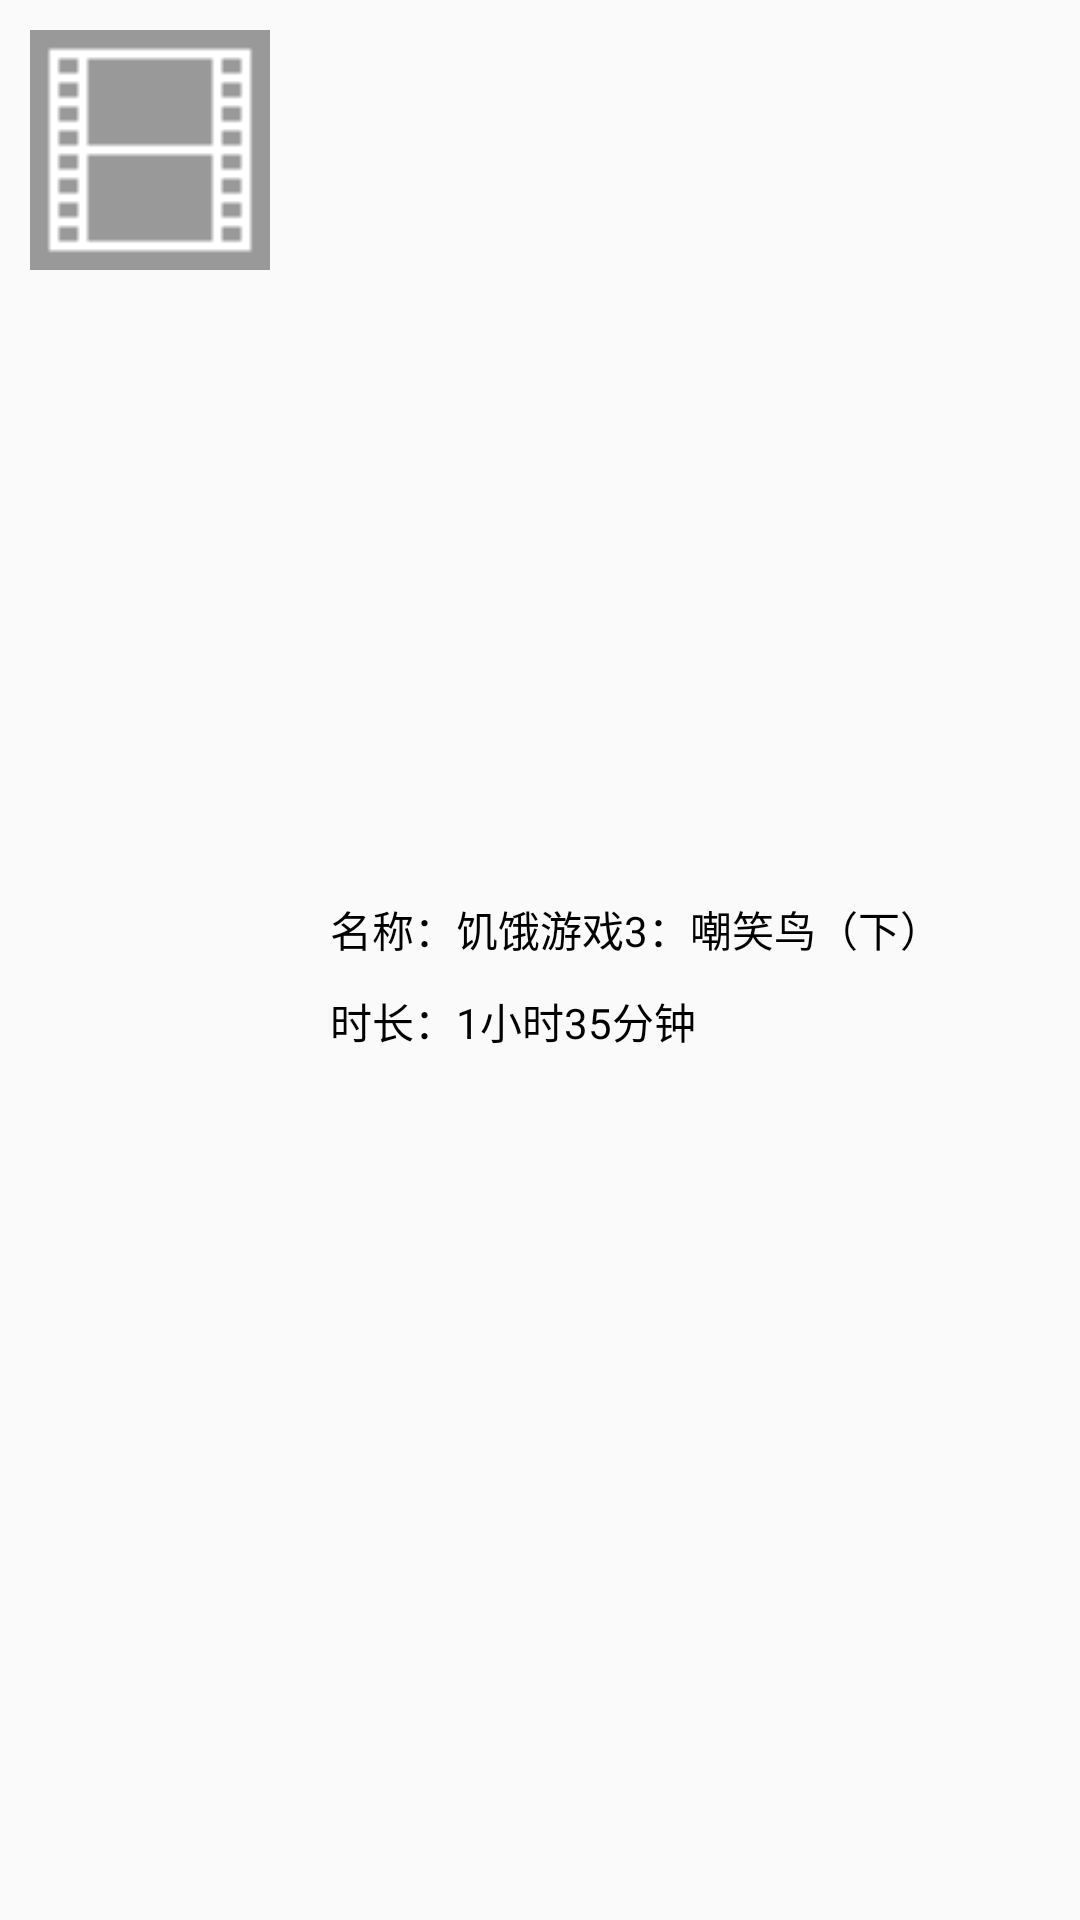

Named icons in this screenshot (1080 x 1920) and their bounding boxes, (x1, y1, x2, y2):
movie: (30, 30, 270, 270)
